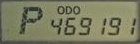1: (100, 18, 106, 35), (130, 18, 136, 35)
4: (50, 17, 63, 35)
6: (64, 17, 76, 36)
9: (107, 17, 121, 35), (78, 17, 91, 35)
X: (18, 6, 43, 35), (72, 5, 80, 15), (57, 5, 64, 14), (65, 5, 72, 14)
